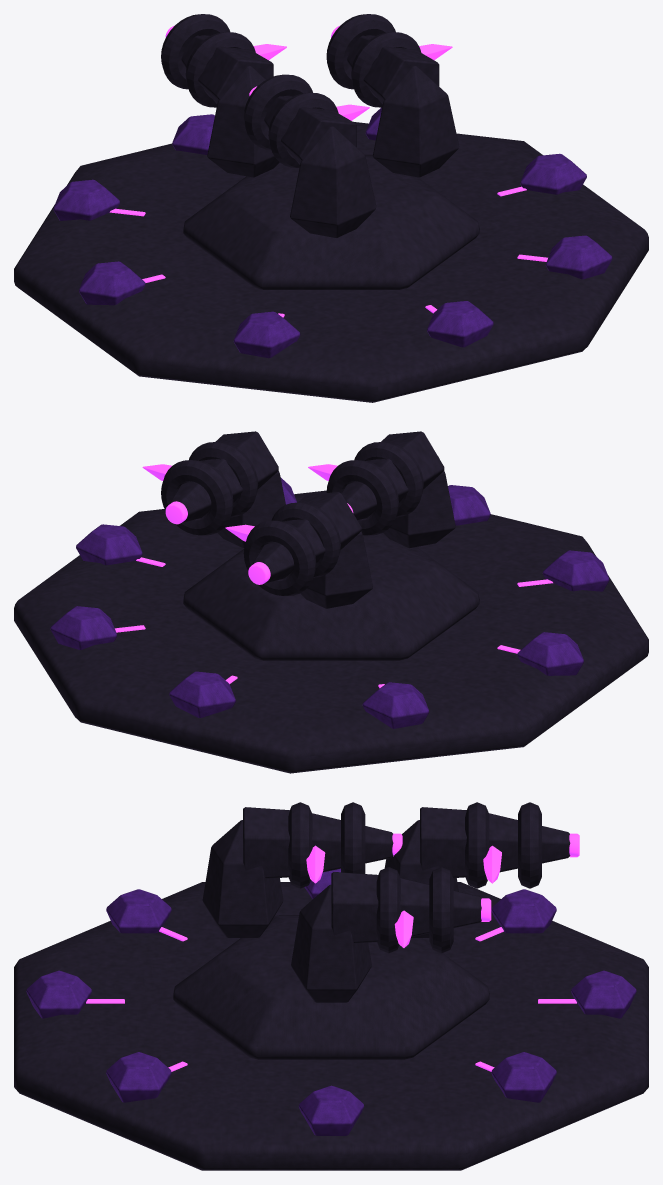
The model's file is conclave_batterie_d_eclats.gltf.
The picture shows the model from 3 angles, top to bottom: view 1: azimuth 30°, elevation 25°; view 2: azimuth 150°, elevation 25°; view 3: azimuth 270°, elevation 25°; orthographic projection. The views are drawn at different scales.
Visible parts, largest first — view 1: Root.012_Geometry, TurretYaw.002_Geometry, GunRecoil.001_Geometry, GunRecoil.003_Geometry, GunRecoil.002_Geometry; view 2: Root.012_Geometry, GunRecoil.001_Geometry, GunRecoil.002_Geometry, GunRecoil.003_Geometry, TurretYaw.002_Geometry; view 3: Root.012_Geometry, TurretYaw.002_Geometry, GunRecoil.001_Geometry, GunRecoil.002_Geometry, GunRecoil.003_Geometry.
Boxes of the visible parts, bbox=[...] form: Root.012_Geometry: bbox=[14, 107, 648, 402]; TurretYaw.002_Geometry: bbox=[207, 66, 459, 238]; GunRecoil.001_Geometry: bbox=[326, 14, 452, 107]; GunRecoil.003_Geometry: bbox=[243, 74, 369, 167]; GunRecoil.002_Geometry: bbox=[161, 14, 286, 107]; Root.012_Geometry: bbox=[14, 477, 648, 773]; GunRecoil.001_Geometry: bbox=[142, 431, 278, 535]; GunRecoil.002_Geometry: bbox=[225, 492, 361, 595]; GunRecoil.003_Geometry: bbox=[308, 431, 444, 535]; TurretYaw.002_Geometry: bbox=[217, 456, 455, 608]; Root.012_Geometry: bbox=[14, 868, 648, 1170]; TurretYaw.002_Geometry: bbox=[202, 820, 458, 1002]; GunRecoil.001_Geometry: bbox=[331, 867, 491, 953]; GunRecoil.002_Geometry: bbox=[420, 802, 579, 888]; GunRecoil.003_Geometry: bbox=[243, 802, 402, 888].
Bounding box in the file's own units: 3.92 × 1.44 × 3.92.
3 materials, 2 textured.
